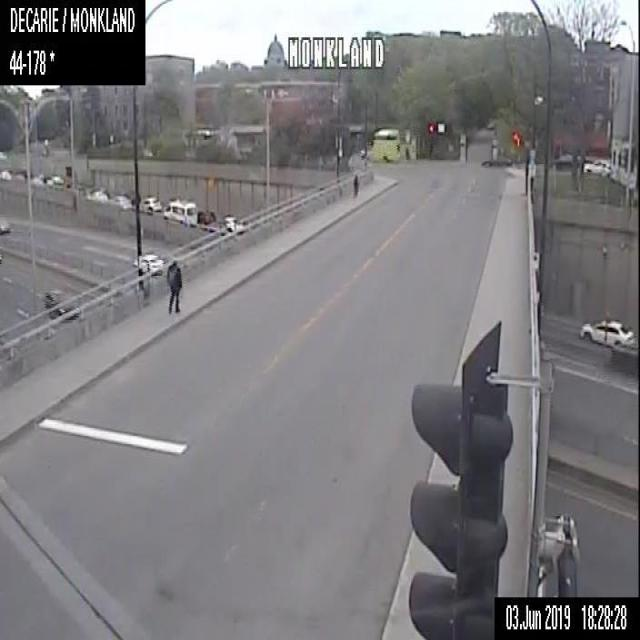pedestrian: (165, 258, 182, 314), (352, 171, 358, 197)
vehicle: (578, 315, 633, 348), (42, 286, 78, 318), (164, 196, 200, 225), (139, 252, 167, 277), (550, 150, 580, 170), (582, 155, 609, 173), (480, 152, 511, 167), (108, 193, 136, 208), (138, 196, 162, 211), (86, 189, 106, 201), (0, 218, 14, 234), (223, 216, 239, 229)
